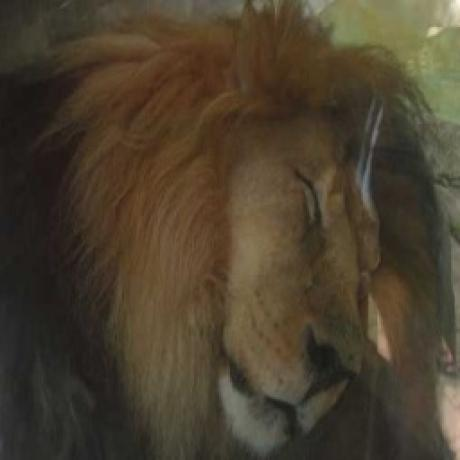Lion: (0, 0, 455, 460)
